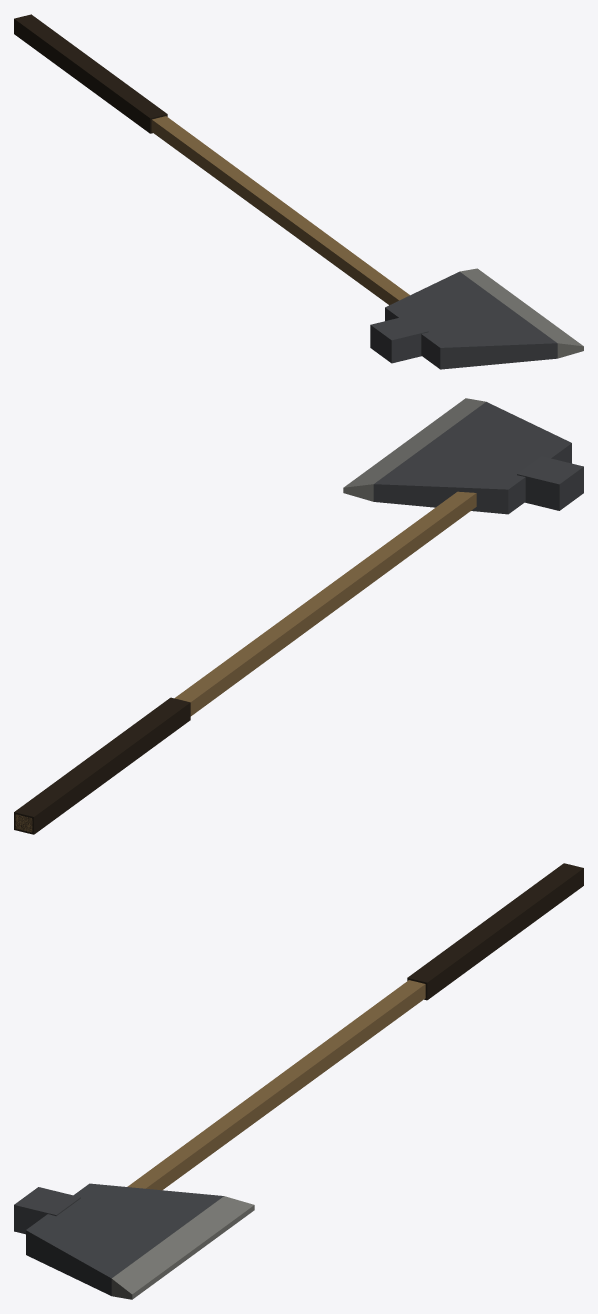
Rendered from felling_axe.glb.
3 views of the same model, one above another, from view 1: azimuth 30°, elevation 25°; view 2: azimuth 150°, elevation 25°; view 3: azimuth 330°, elevation 25° (orthographic). The views are drawn at different scales.
Parts seen in each view (by area): view 1: felling_axe; view 2: felling_axe; view 3: felling_axe.
Part boxes in pixels (left/top/right/bottom): felling_axe: left=14, top=14, right=583, bottom=369; felling_axe: left=14, top=398, right=583, bottom=834; felling_axe: left=14, top=863, right=583, bottom=1299.
Size of the model in its own units: 0.2 by 0.03 by 1.11.
